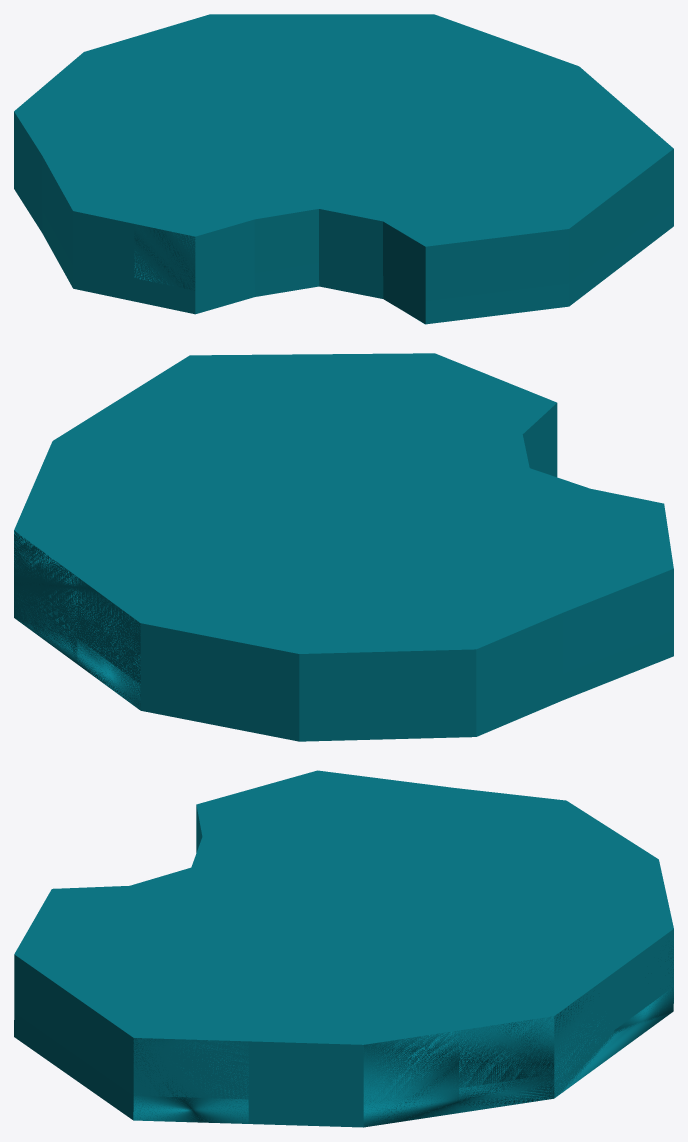
File: water2.glb
3 views of the same model, one above another, from view 1: azimuth 30°, elevation 25°; view 2: azimuth 150°, elevation 25°; view 3: azimuth 270°, elevation 25° (orthographic). The views are drawn at different scales.
Parts seen in each view (by area): view 1: pond_0.002; view 2: pond_0.002; view 3: pond_0.002.
Part boxes in pixels (box(x1,y1,x2,y2)): pond_0.002: box(14, 14, 673, 324); pond_0.002: box(14, 353, 673, 741); pond_0.002: box(14, 770, 673, 1127).
Size of the model in its own units: 4.27 by 0.6073 by 4.34.
